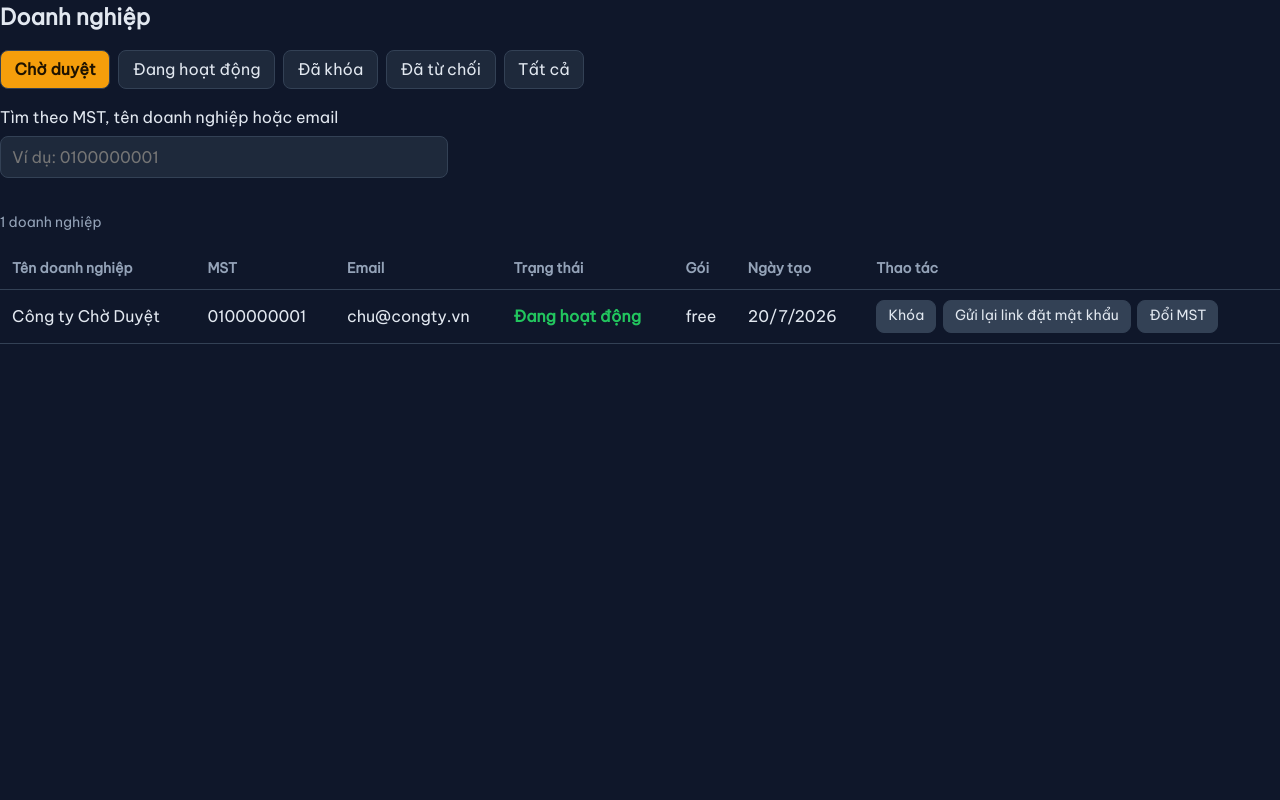
Scenario: 🔴 Lát cắt 3 — Duyệt KHÔNG còn hiện mật khẩu, chỉ báo đã gửi thư › tenant active có nút 'Gửi lại link đặt mật khẩu', KHÔNG còn 'Cấp lại mật khẩu'
Click the button "Gửi lại link đặt mật khẩu" at (1037, 316), box [943,300,1131,333]
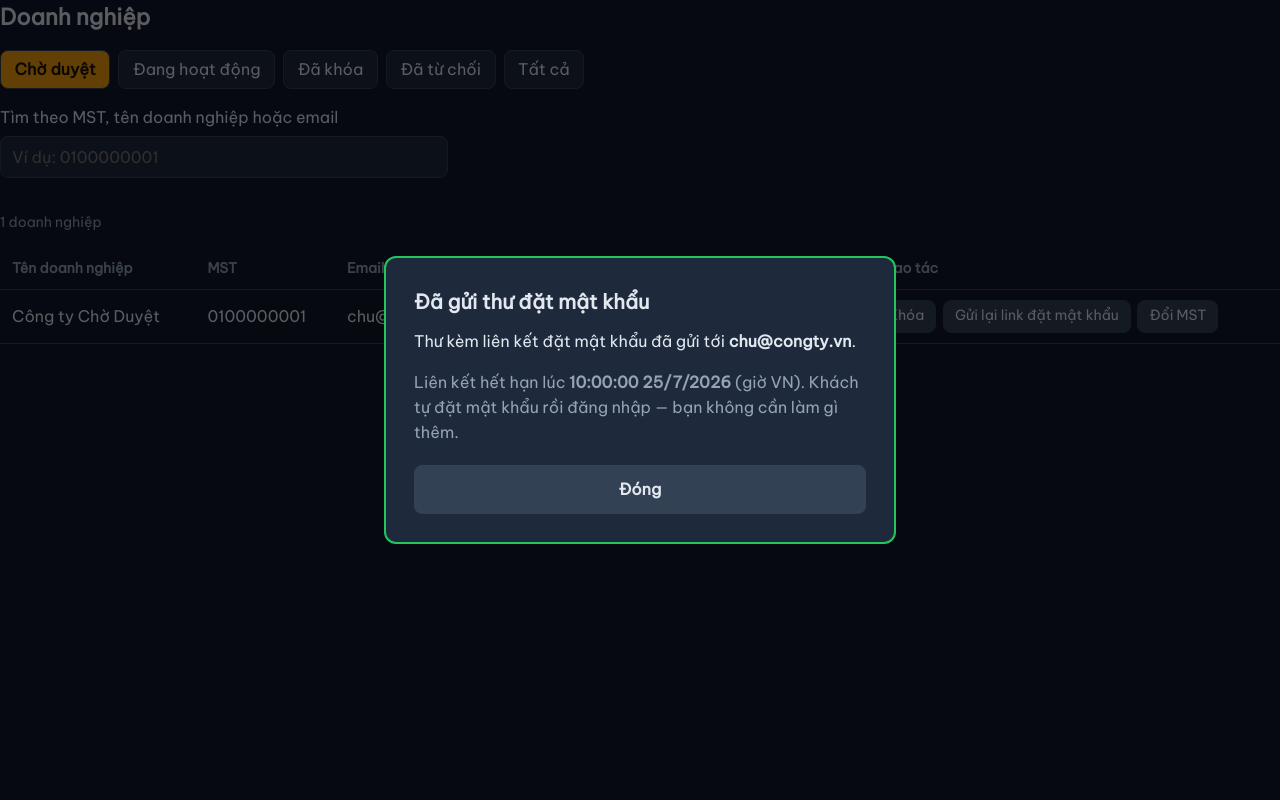
Now the heading "Đã gửi thư đặt mật khẩu" is shown, box [414,289,649,314]
